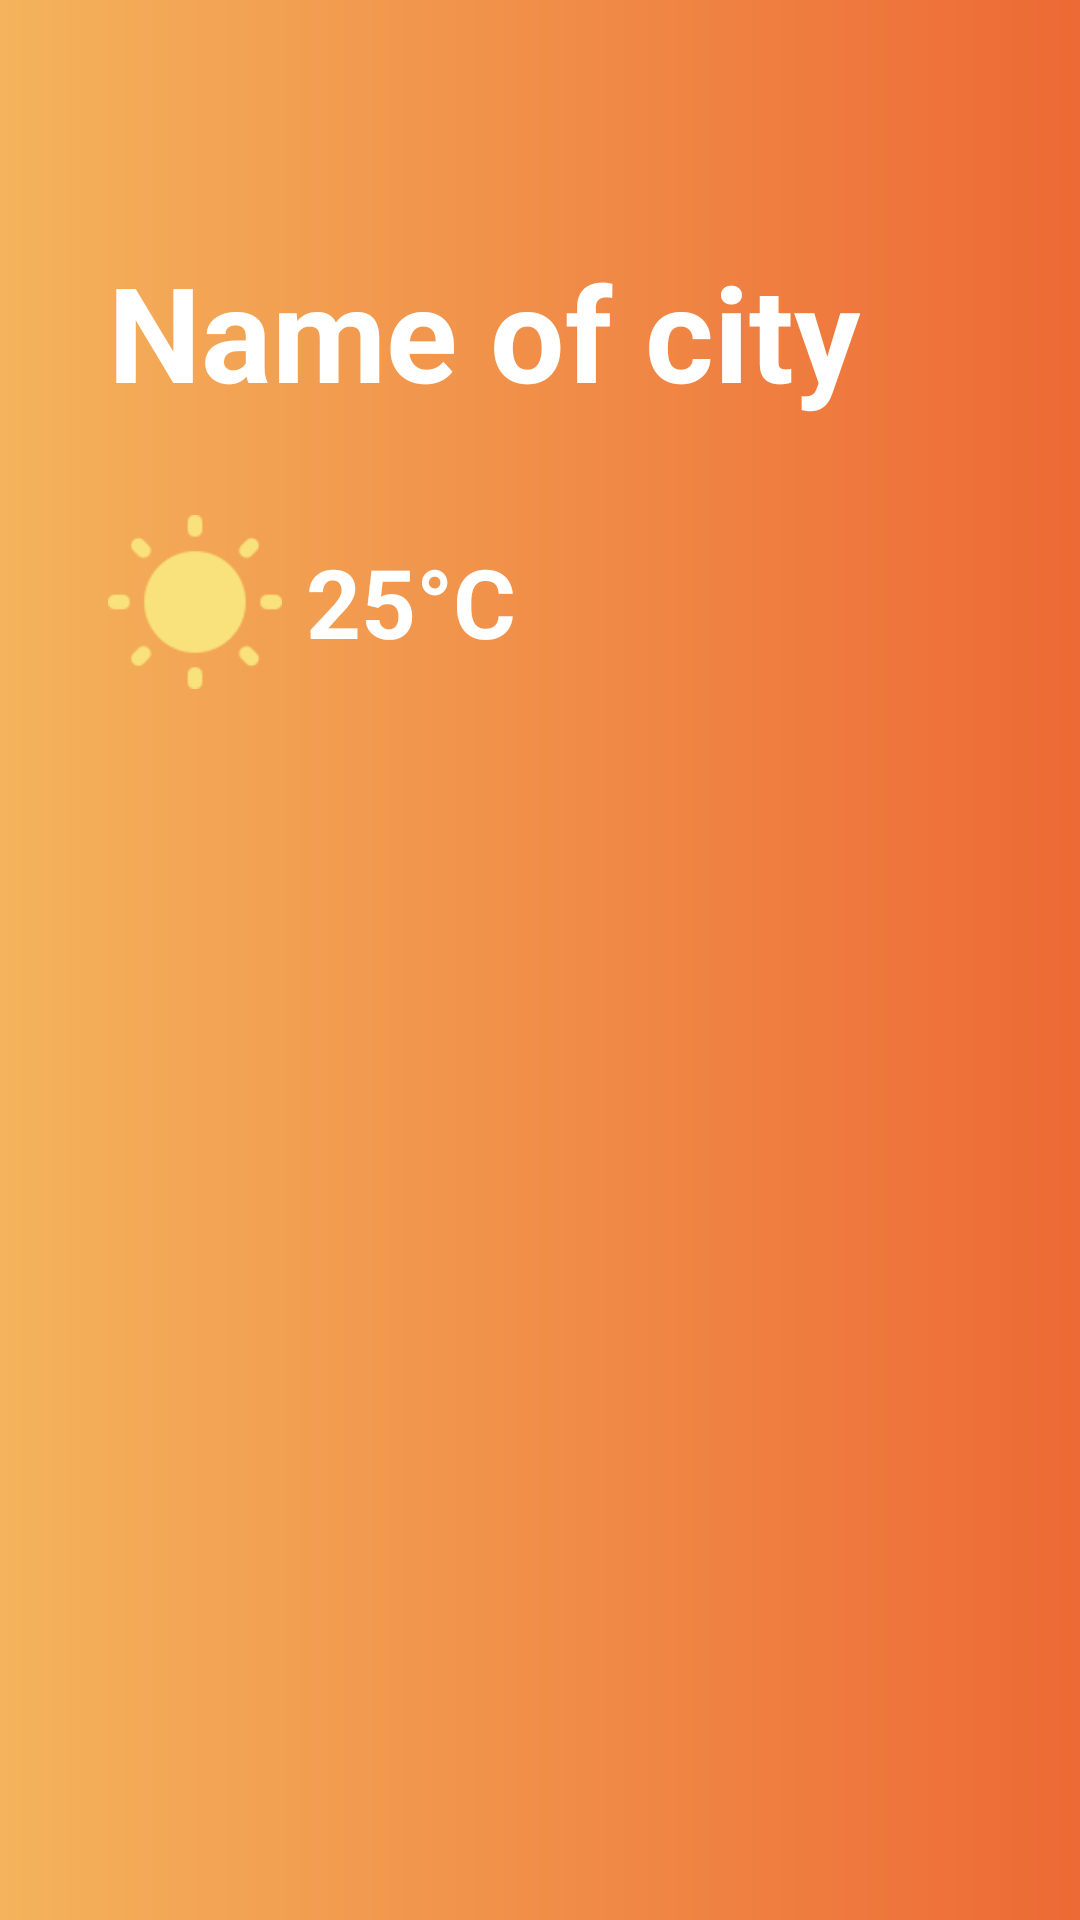

Where icons sit on this 1080px x 1920px app screen, as rect(x1, y1, x2, y2):
sun: rect(108, 515, 282, 689)
